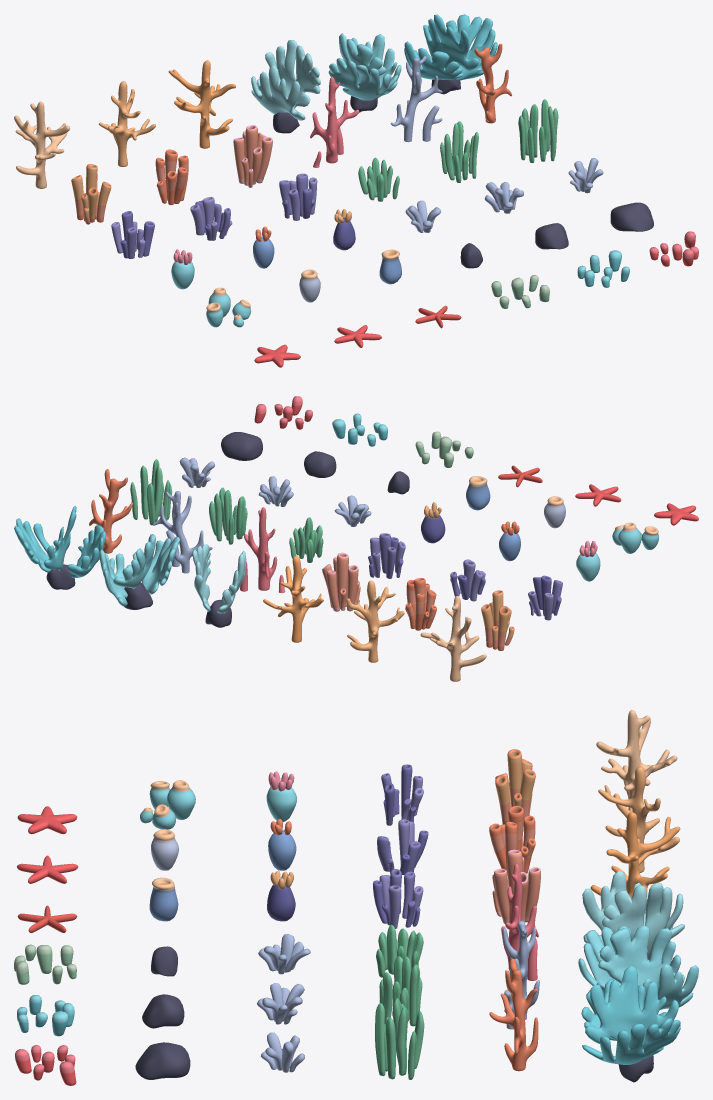
The model's file is FBX_Underwater coral.fbx.
The picture shows the model from 3 angles, top to bottom: view 1: azimuth 30°, elevation 25°; view 2: azimuth 150°, elevation 25°; view 3: azimuth 270°, elevation 25°; orthographic projection. The views are drawn at different scales.
Parts seen in each view (by area): view 1: coral_24, coral_22, coral_23, coral_01, coral_15, coral_16, coral_04, coral_14, coral_20, coral_02, coral_17, coral_18 (+22 smaller); view 2: coral_23, coral_24, coral_22, coral_15, coral_18, coral_04, coral_01, coral_14, coral_16, coral_20, coral_17, coral_02 (+22 smaller); view 3: coral_24, coral_23, coral_22, coral_15, coral_21, coral_16, coral_01, coral_07, coral_04, coral_14, coral_33, coral_03 (+24 smaller).
Boxes of the visible parts, <box> form: coral_24: <box>404,14,497,94</box>; coral_22: <box>251,40,320,133</box>; coral_23: <box>328,33,401,112</box>; coral_01: <box>14,101,70,188</box>; coral_15: <box>518,99,558,162</box>; coral_16: <box>168,60,235,148</box>; coral_04: <box>233,125,272,187</box>; coral_14: <box>440,121,478,182</box>; coral_20: <box>390,56,442,142</box>; coral_02: <box>71,164,111,224</box>; coral_17: <box>310,77,359,167</box>; coral_18: <box>98,81,155,166</box>; coral_23: <box>99,534,179,609</box>; coral_24: <box>14,506,106,589</box>; coral_22: <box>192,544,246,627</box>; coral_15: <box>130,459,172,525</box>; coral_18: <box>346,580,404,662</box>; coral_04: <box>322,552,360,611</box>; coral_01: <box>420,596,486,681</box>; coral_14: <box>209,487,247,544</box>; coral_16: <box>263,556,323,642</box>; coral_20: <box>152,491,212,573</box>; coral_17: <box>240,507,285,592</box>; coral_02: <box>481,590,514,650</box>; coral_24: <box>581,966,680,1082</box>; coral_23: <box>578,925,698,1009</box>; coral_22: <box>582,870,684,960</box>; coral_15: <box>375,998,424,1079</box>; coral_21: <box>489,958,538,1071</box>; coral_16: <box>590,812,680,899</box>; coral_01: <box>596,710,677,809</box>; coral_07: <box>373,869,423,928</box>; coral_04: <box>492,849,540,923</box>; coral_14: <box>379,956,422,1026</box>; coral_33: <box>140,780,195,829</box>; coral_03: <box>489,805,535,875</box>.
Bounding box in the file's own units: 358 × 64.99 × 350.
Materials: 36 (36 with a texture image).
